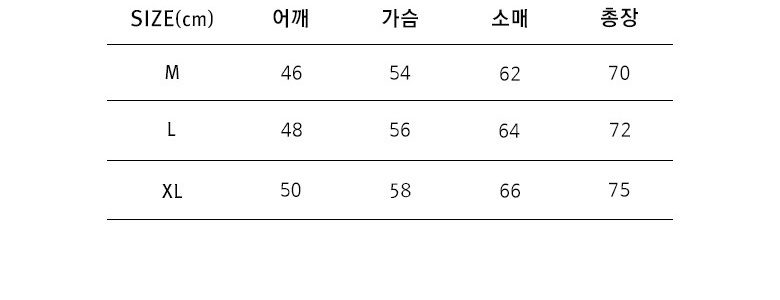table: (109, 3, 676, 223)
